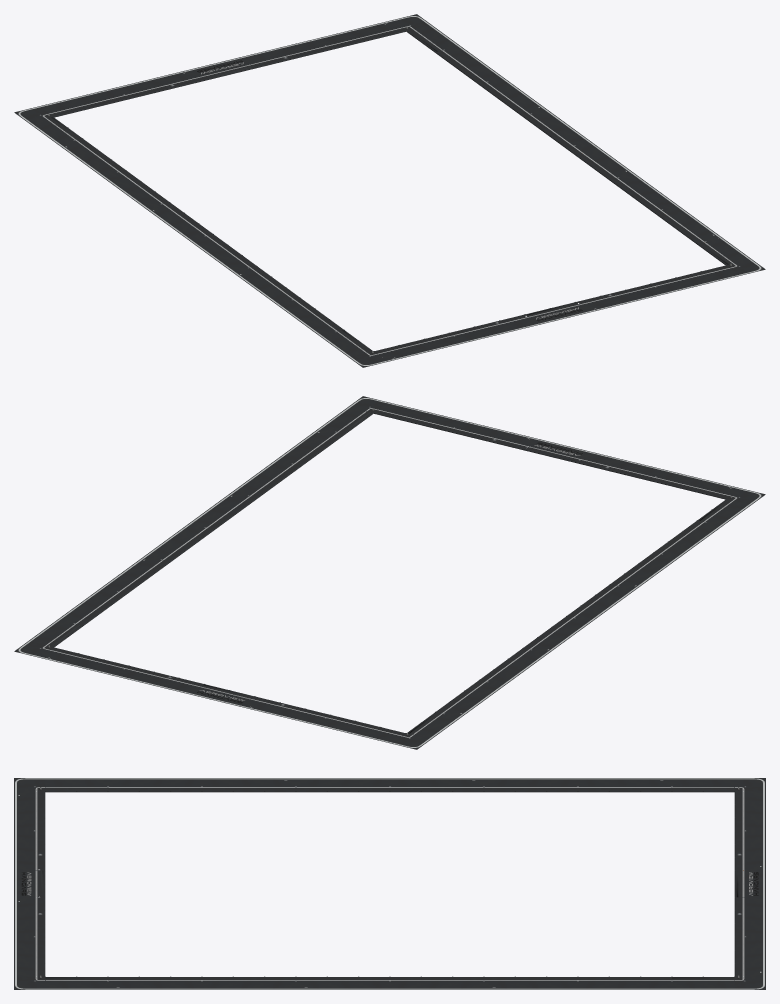
Rendered from medtop-rand.glb.
3 renders of one model, top to bottom at view 1: azimuth 30°, elevation 25°; view 2: azimuth 150°, elevation 25°; view 3: azimuth 270°, elevation 25°, orthographic. The views are drawn at different scales.
Visible parts, largest first — view 1: rand_steg_5, rand_steg_3, rand_steg_1, rand_steg_12, rand_steg_14, rand_steg_10, rand_steg_15, rand_steg_8, rand_steg_2, rand_steg_4, rand_steg_7, rand_steg_0 (+4 smaller); view 2: rand_steg_15, rand_steg_10, rand_steg_12, rand_steg_1, rand_steg_14, rand_steg_5, rand_steg_3, rand_steg_4, rand_steg_2, rand_steg_8, rand_steg_13, rand_steg_11 (+4 smaller); view 3: rand_steg_2, rand_steg_4, rand_steg_8, rand_steg_5, rand_steg_3, rand_steg_10, rand_steg_15, rand_steg_1, rand_steg_12, rand_steg_14, rand_steg_6, rand_steg_9 (+8 smaller).
Part boxes in pixels (<box>): rand_steg_5: <box>39,69,204,117</box>; rand_steg_3: <box>241,20,406,68</box>; rand_steg_1: <box>435,46,547,116</box>; rand_steg_12: <box>610,174,721,244</box>; rand_steg_14: <box>522,110,634,180</box>; rand_steg_10: <box>575,265,740,312</box>; rand_steg_15: <box>374,314,538,361</box>; rand_steg_8: <box>232,266,344,335</box>; rand_steg_2: <box>145,202,256,271</box>; rand_steg_4: <box>58,138,169,207</box>; rand_steg_7: <box>190,57,255,80</box>; rand_steg_0: <box>406,25,459,52</box>; rand_steg_15: <box>575,451,740,499</box>; rand_steg_10: <box>373,402,538,450</box>; rand_steg_12: <box>232,428,344,498</box>; rand_steg_1: <box>58,556,169,626</box>; rand_steg_14: <box>145,492,257,562</box>; rand_steg_5: <box>241,696,405,743</box>; rand_steg_3: <box>39,647,204,694</box>; rand_steg_4: <box>435,648,547,717</box>; rand_steg_2: <box>523,584,634,653</box>; rand_steg_8: <box>610,520,721,589</box>; rand_steg_13: <box>524,439,589,462</box>; rand_steg_11: <box>320,407,373,434</box>; rand_steg_2: <box>296,778,483,792</box>; rand_steg_4: <box>484,778,671,792</box>; rand_steg_8: <box>108,778,295,792</box>; rand_steg_5: <box>734,791,765,870</box>; rand_steg_3: <box>734,897,765,976</box>; rand_steg_10: <box>14,897,45,976</box>; rand_steg_15: <box>14,791,45,870</box>; rand_steg_1: <box>484,976,671,989</box>; rand_steg_12: <box>108,976,295,989</box>; rand_steg_14: <box>296,976,483,989</box>; rand_steg_6: <box>672,778,734,792</box>; rand_steg_9: <box>45,778,107,792</box>.
Bounding box in the file's own units: 64 × 0.5671 × 96.
Materials: 12 (9 with a texture image).
